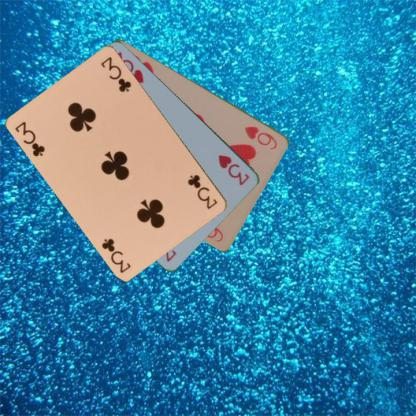3c: (185, 171, 219, 211), (13, 118, 47, 158)
3h: (216, 152, 251, 187)
6h: (242, 123, 279, 151)
